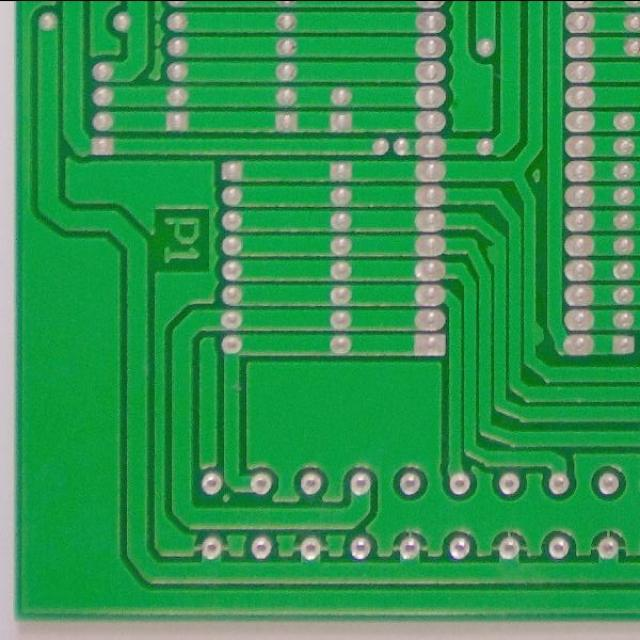spur: (528, 313, 549, 355), (484, 239, 502, 268)
